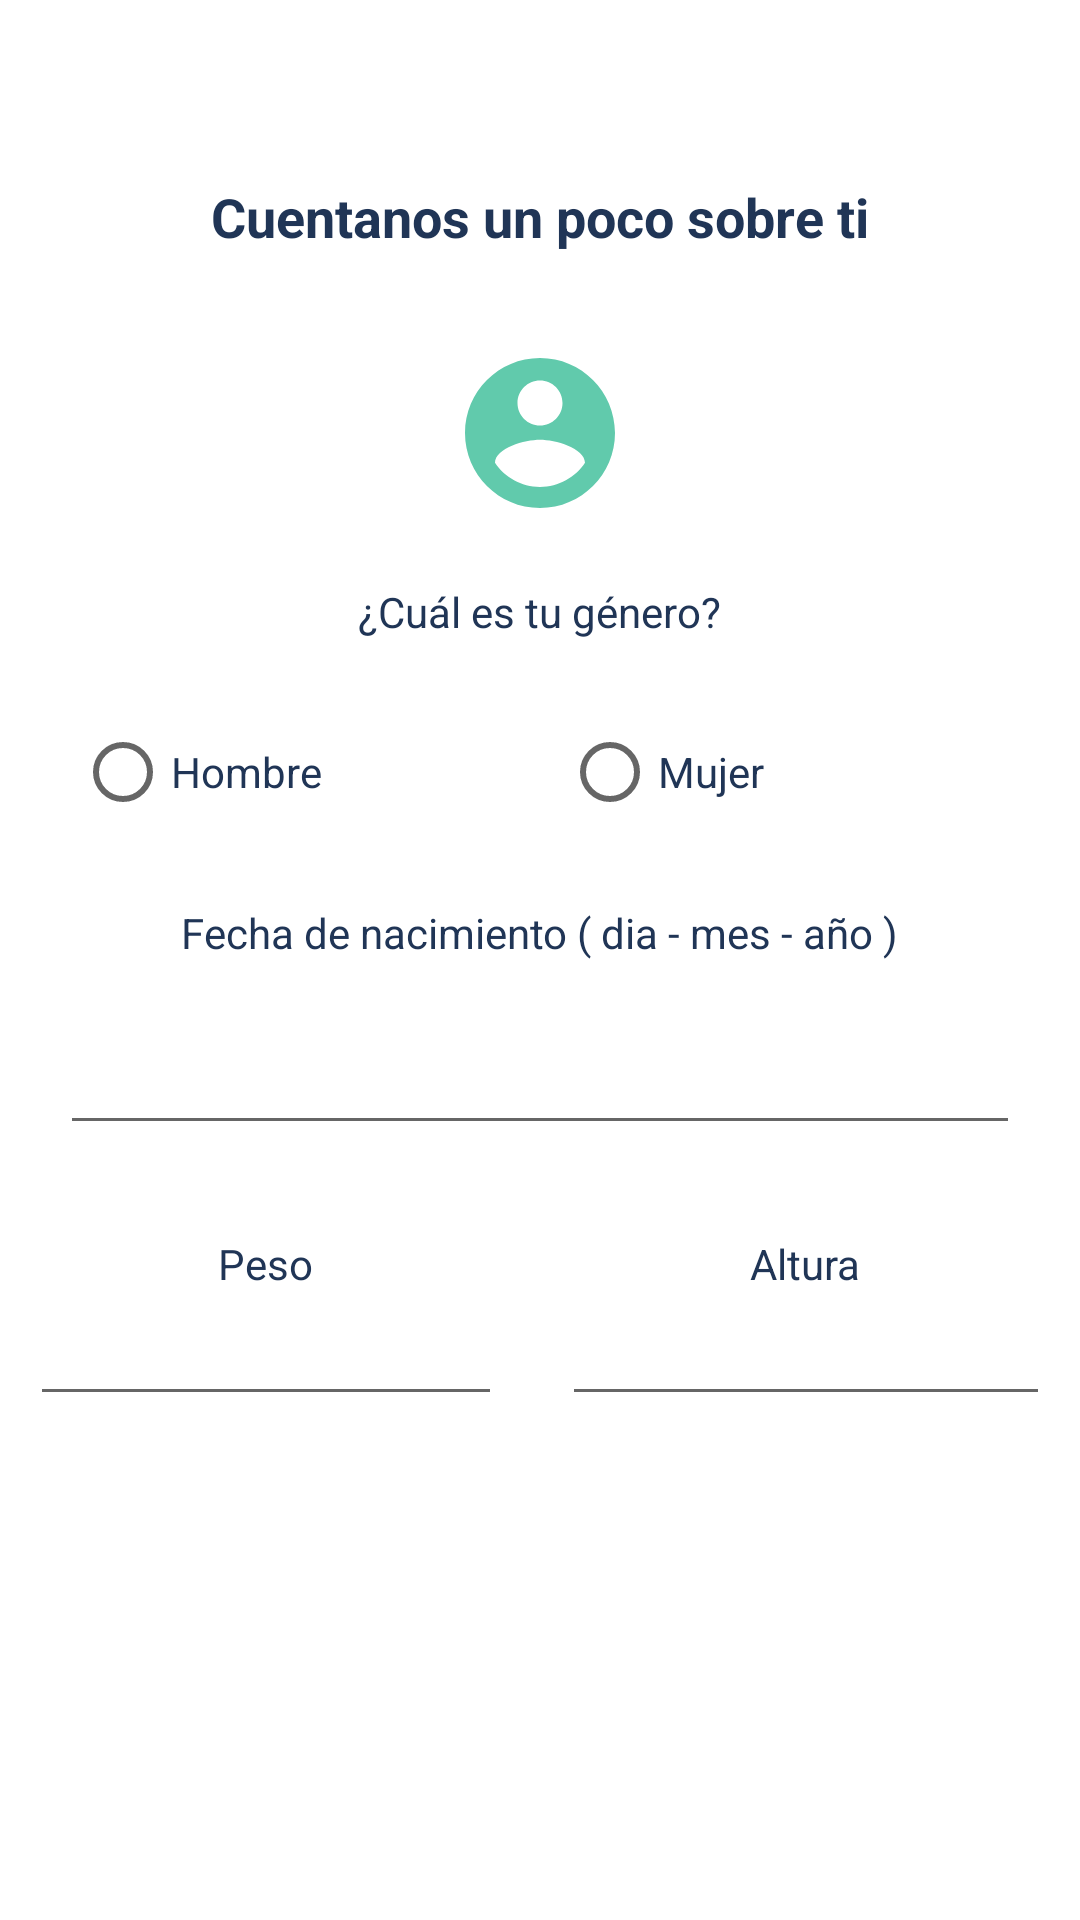

Named icons in this screenshot (1080*1920) and their centers, (x,y):
account circle: (540,433)
